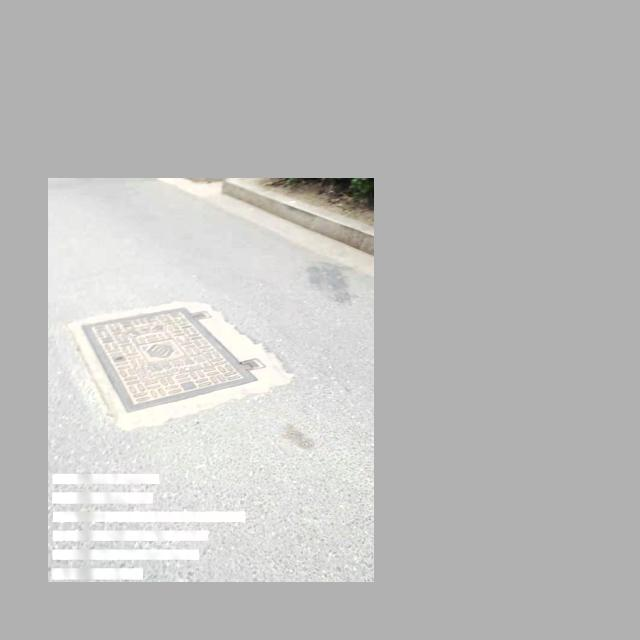good: (78, 302, 282, 408)
